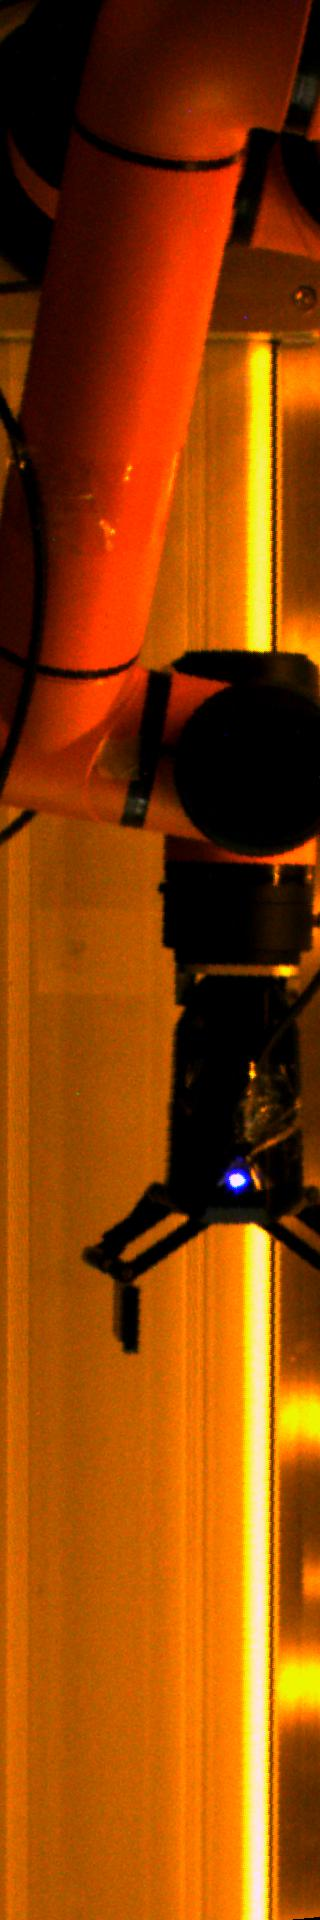keyPoint_1: (222, 1163, 253, 1193)
